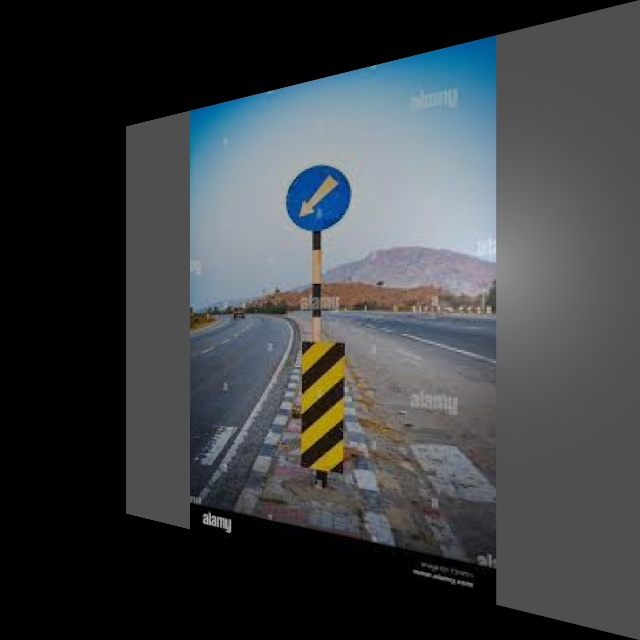Compulsory_Keep_Left: (283, 157, 360, 237)
